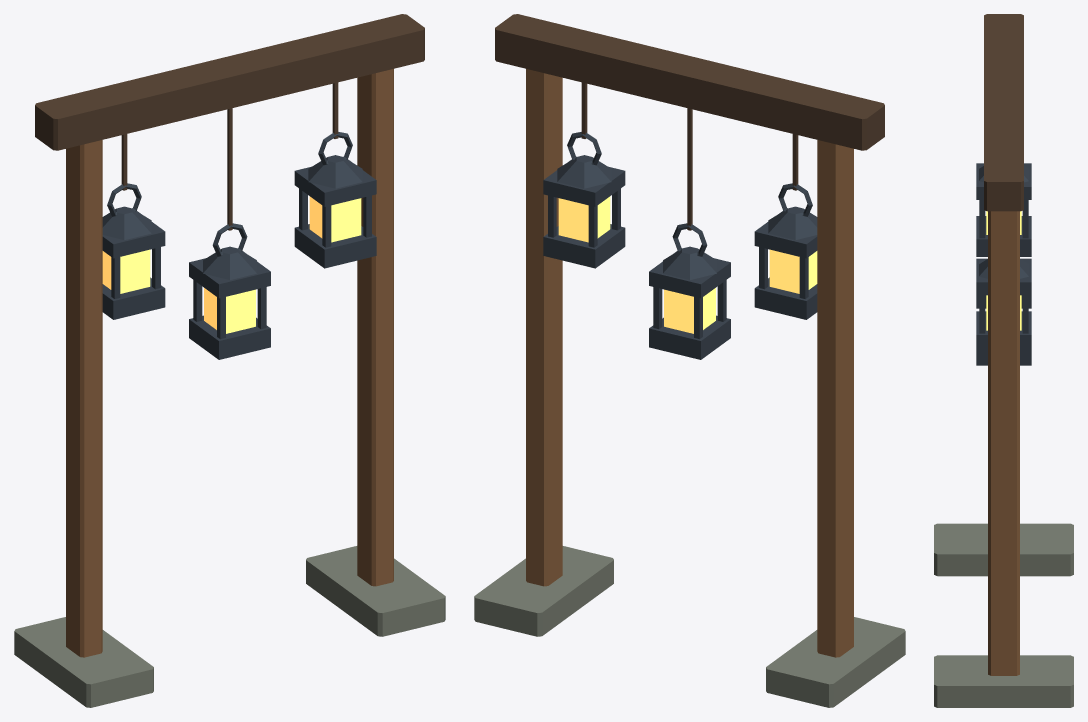
The model's file is lantern_stand.glb.
3 views of the same model, side by side, from view 1: azimuth 30°, elevation 25°; view 2: azimuth 150°, elevation 25°; view 3: azimuth 270°, elevation 25° (orthographic). The views are drawn at different scales.
Visible parts, largest first — view 1: geometry, light; view 2: geometry, light; view 3: geometry.
Boxes of the visible parts, left/top/right/bottom form: geometry: left=14, top=14, right=445, bottom=707; light: left=102, top=196, right=361, bottom=333; geometry: left=474, top=14, right=905, bottom=707; light: left=558, top=196, right=817, bottom=333; geometry: left=934, top=14, right=1073, bottom=707.
Bounding box in the file's own units: 1.48 × 2.17 × 0.52.
